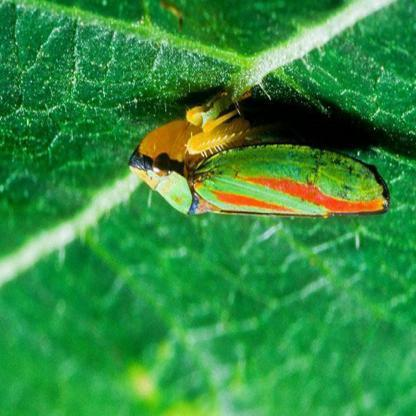green-leafhopper: (122, 105, 391, 229)
